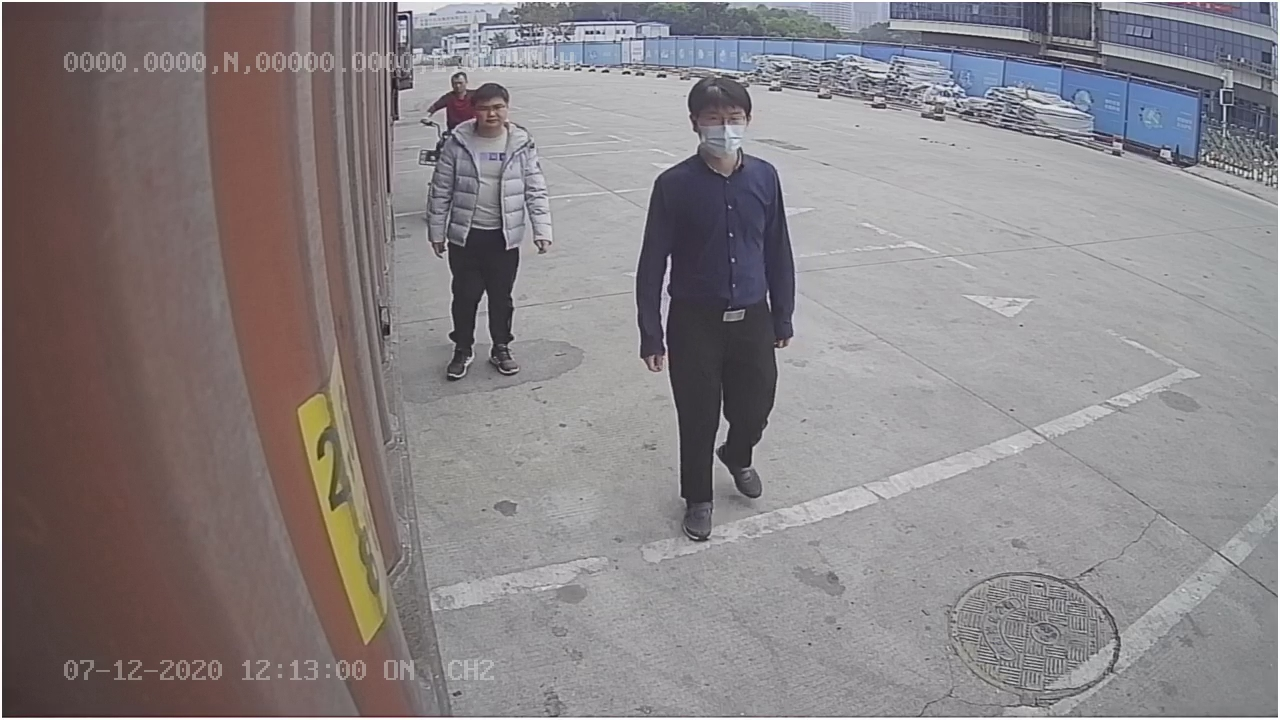person: (643, 65, 796, 541)
